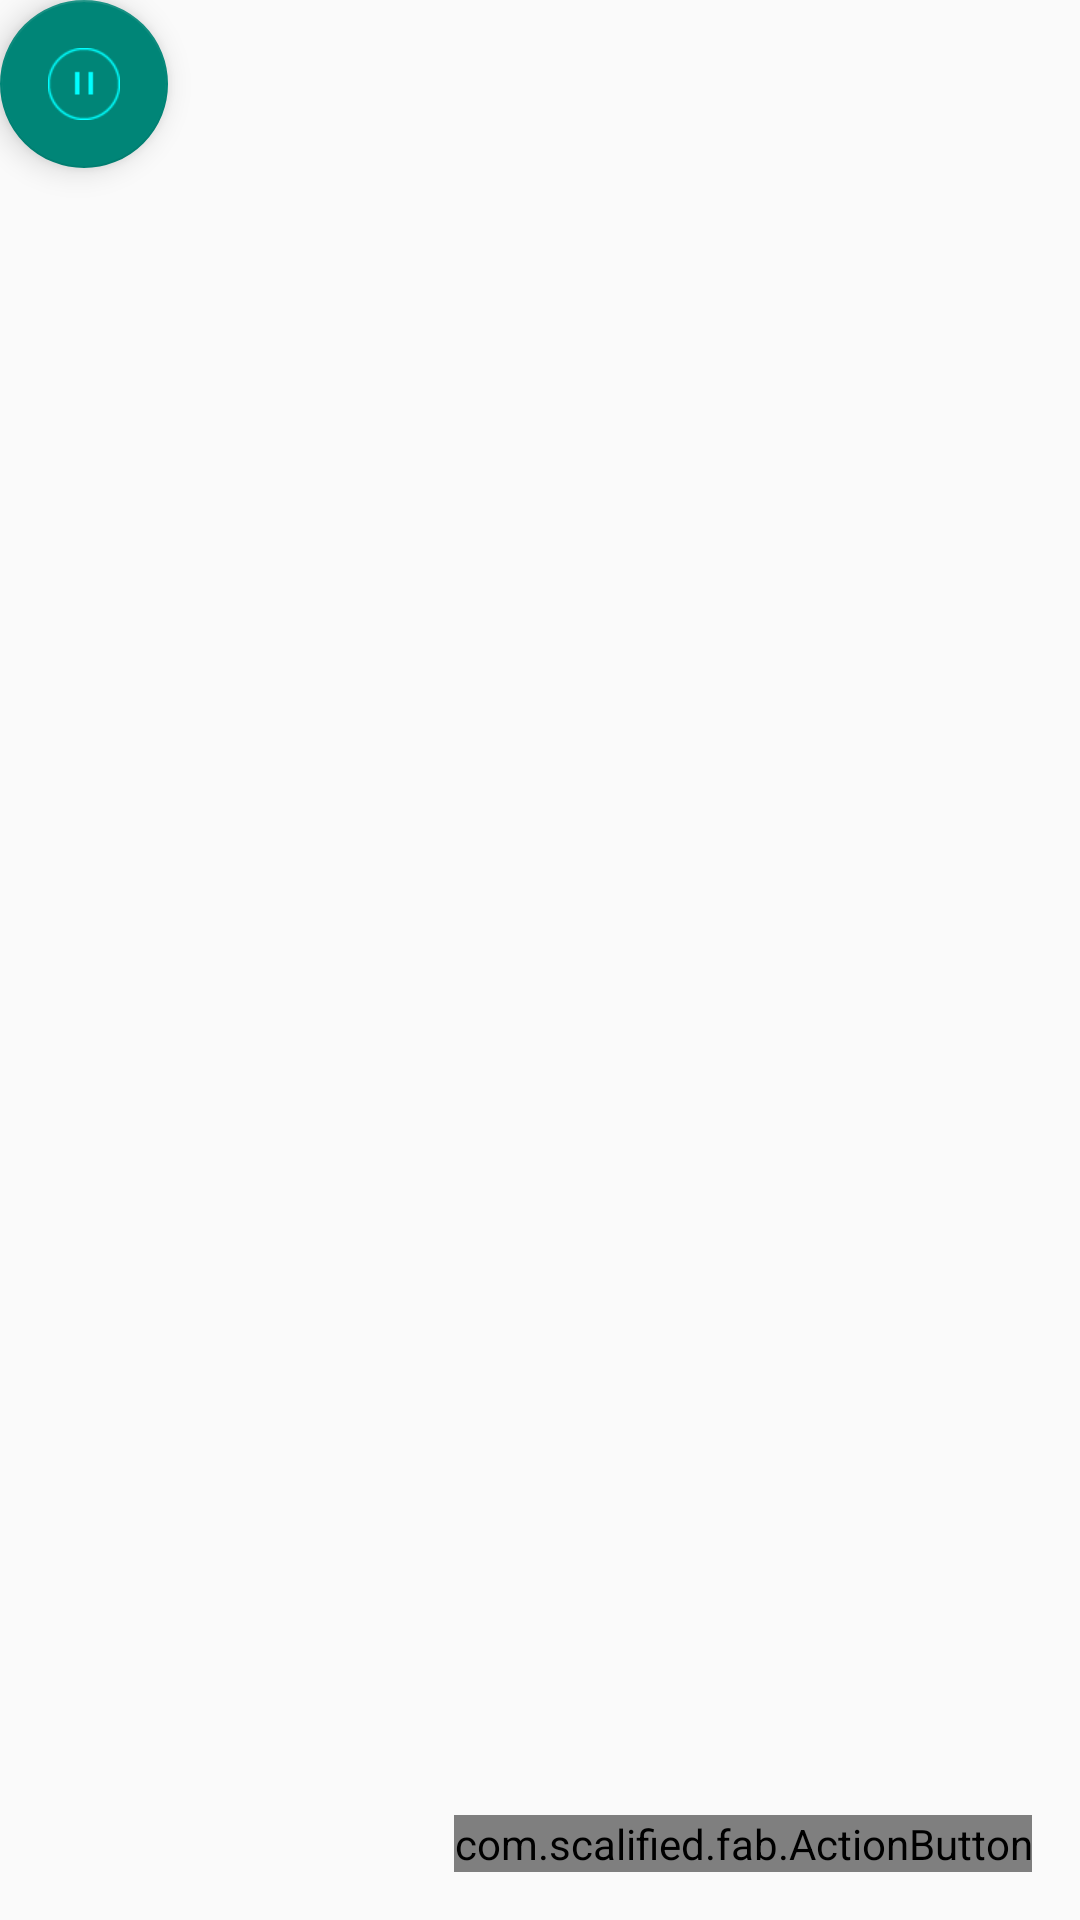

Point at icon controls on the screen. Image size 1080×1920, points as (x,y).
pausepnn: (84,84)
